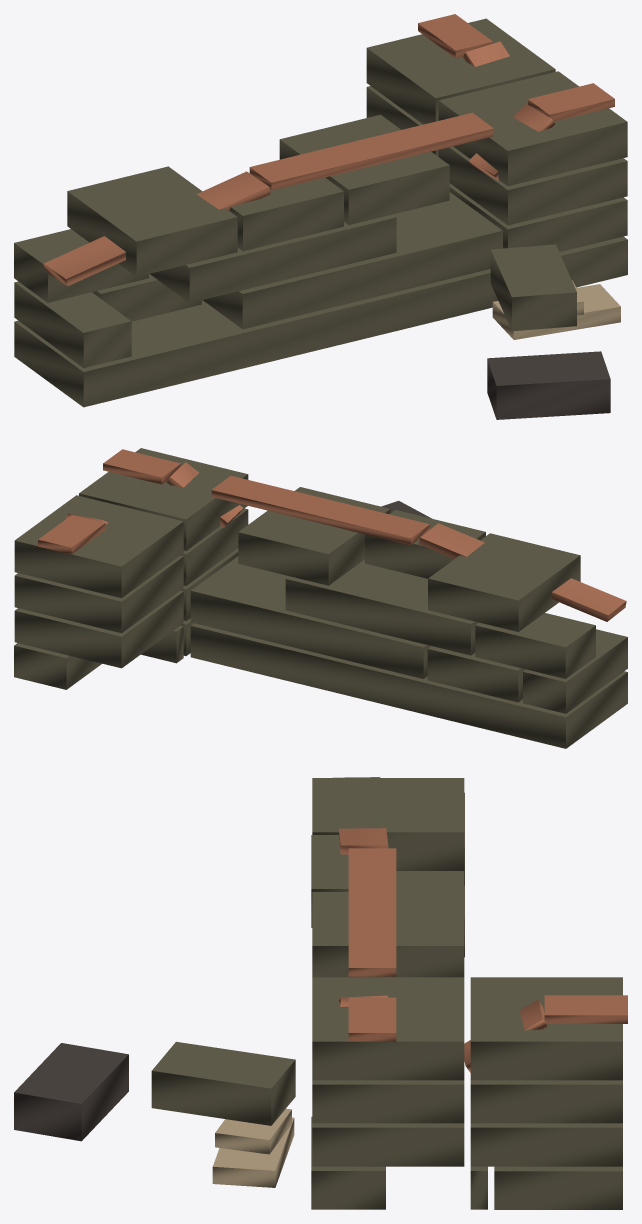
File: SM_SacosRemateEspejo_v3_Tablon_e1_Danado_LOD1.fbx
3 views of the same model, one above another, from view 1: azimuth 30°, elevation 25°; view 2: azimuth 150°, elevation 25°; view 3: azimuth 270°, elevation 25° (orthographic). The views are drawn at different scales.
Parts seen in each view (by area): view 1: SM_sacos_piezas_v33_LOD1; view 2: SM_sacos_piezas_v33_LOD1; view 3: SM_sacos_piezas_v33_LOD1.
Part boxes in pixels (bbox=[...]): SM_sacos_piezas_v33_LOD1: bbox=[14, 14, 627, 419]; SM_sacos_piezas_v33_LOD1: bbox=[14, 448, 627, 748]; SM_sacos_piezas_v33_LOD1: bbox=[14, 777, 627, 1209].
Bounding box in the file's own units: 4.46 × 1.26 × 3.87.
